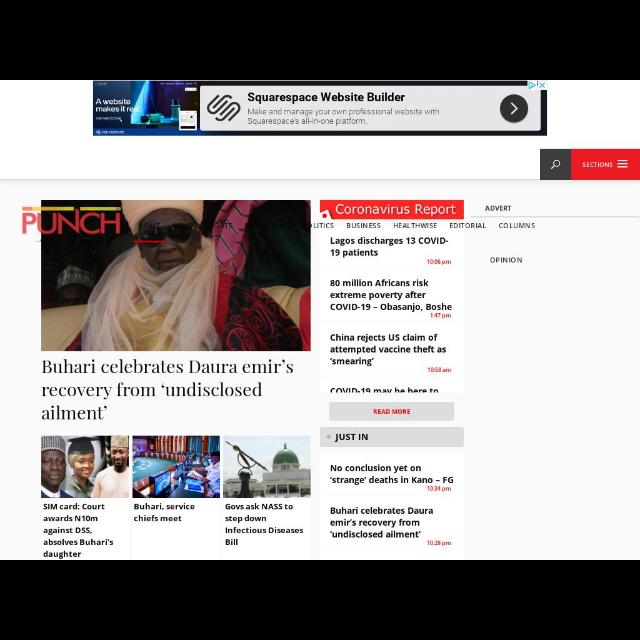button: (541, 150, 571, 180)
icon: (550, 160, 560, 170), (618, 160, 628, 168), (327, 435, 331, 439)
iframe: (94, 80, 546, 136)
image: (42, 200, 310, 352), (41, 436, 129, 498), (133, 436, 220, 498), (224, 436, 310, 498), (21, 204, 120, 233)
text: (42, 358, 294, 420), (42, 502, 114, 560), (330, 332, 448, 366), (330, 279, 452, 311), (223, 502, 304, 546), (330, 506, 434, 538), (330, 464, 454, 486), (330, 236, 450, 258), (336, 203, 456, 215), (132, 502, 195, 524), (394, 222, 436, 230), (335, 433, 369, 442), (347, 222, 381, 230), (490, 256, 522, 264), (428, 538, 452, 548), (374, 409, 411, 415), (499, 222, 535, 228), (450, 223, 486, 229), (484, 205, 512, 212), (428, 258, 452, 266), (582, 162, 614, 168), (426, 486, 452, 492), (428, 367, 452, 373), (431, 313, 453, 319)
textbutton: (572, 149, 640, 179)
